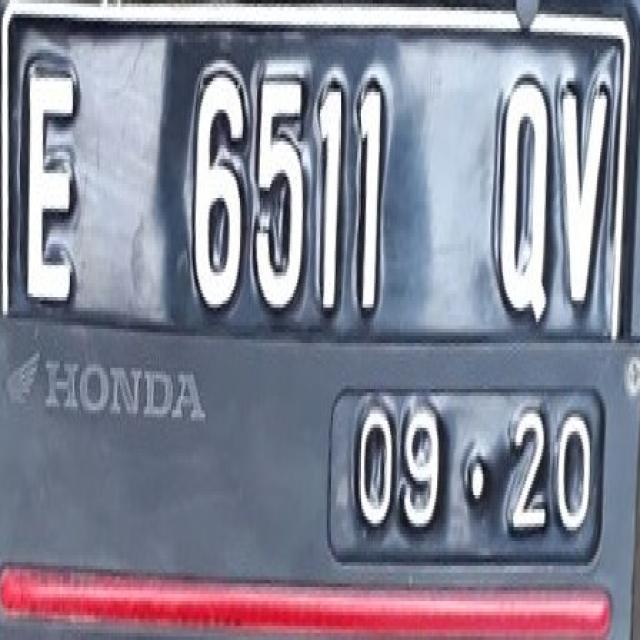plate: (0, 0, 630, 583)
